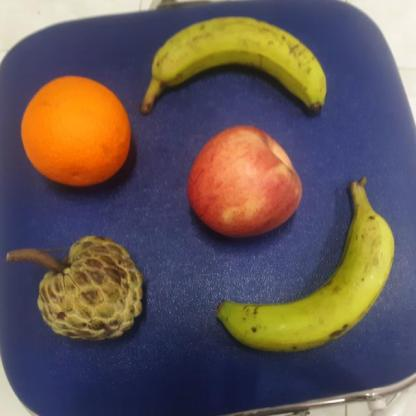annona: (36, 236, 151, 350)
apple: (184, 123, 309, 241)
banana: (216, 181, 396, 353), (143, 14, 332, 116)
orange: (18, 75, 132, 188)
